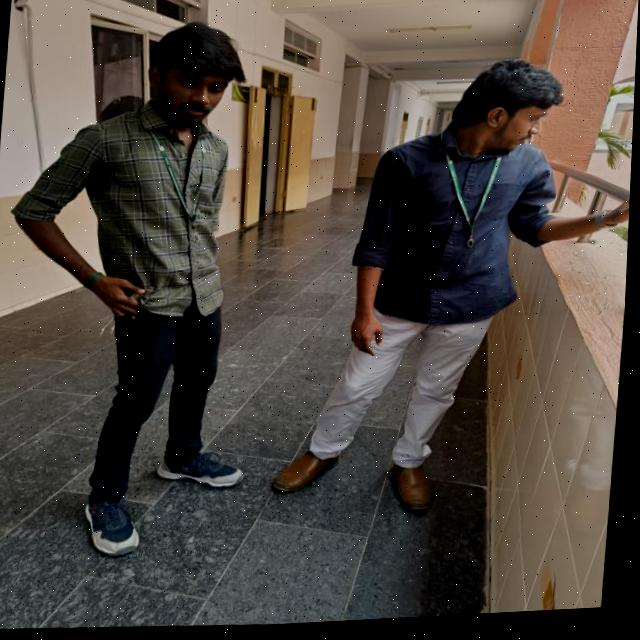id_card: (138, 125, 214, 244), (433, 146, 507, 257)
